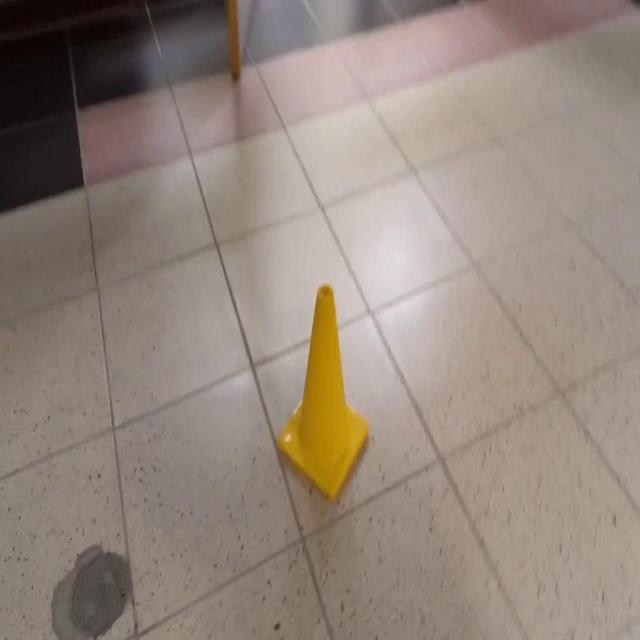frc_cone: (274, 280, 369, 508)
